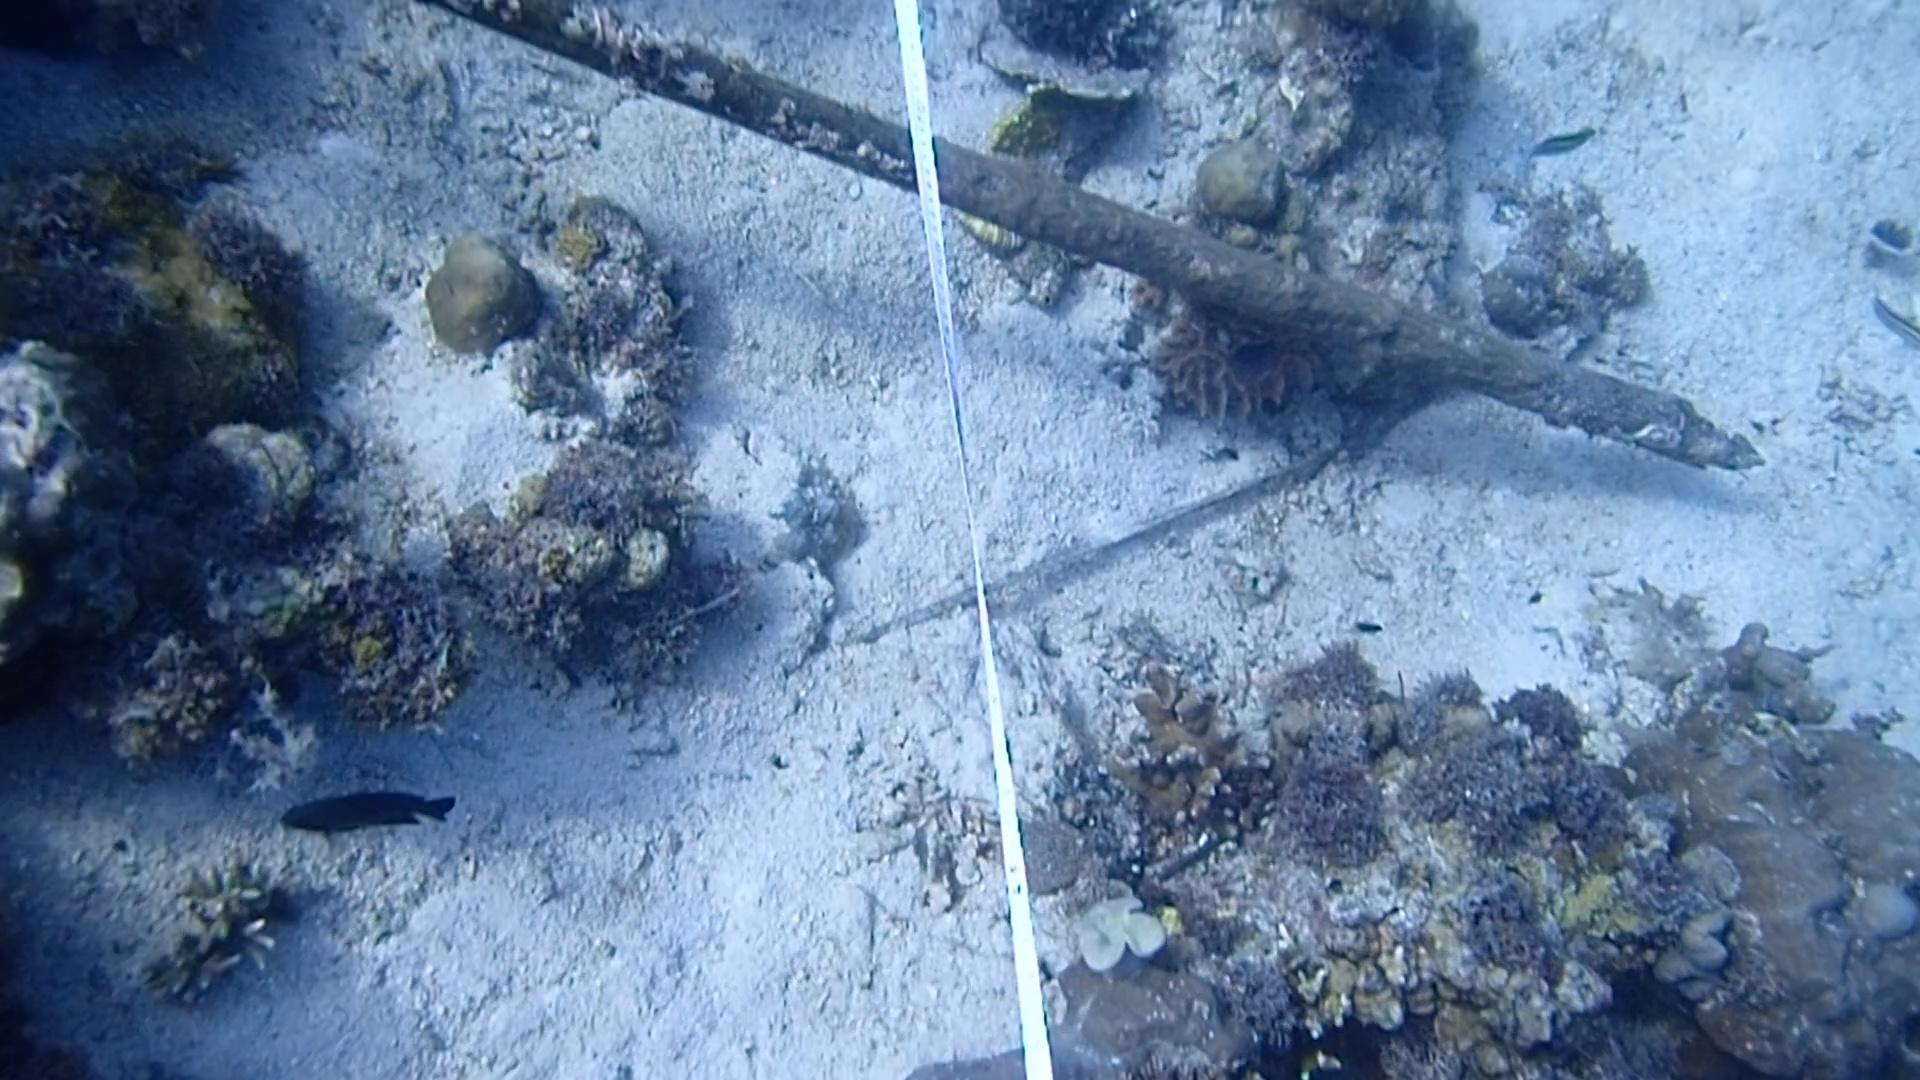Dark Fish: (262, 786, 463, 841)
Striped Fish: (1524, 115, 1590, 171), (1869, 281, 1920, 348)
